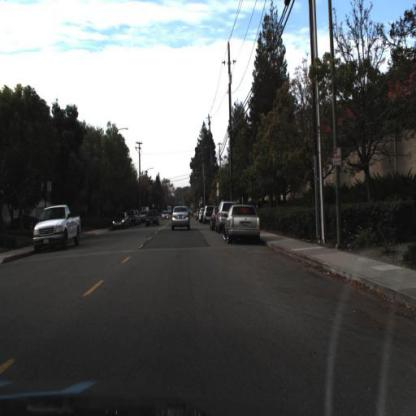car: (32, 204, 81, 257), (31, 204, 82, 250), (223, 204, 262, 246), (223, 205, 263, 245), (171, 204, 192, 234), (216, 200, 232, 238), (171, 206, 190, 234), (111, 211, 130, 234), (144, 210, 162, 232), (162, 207, 172, 223)
